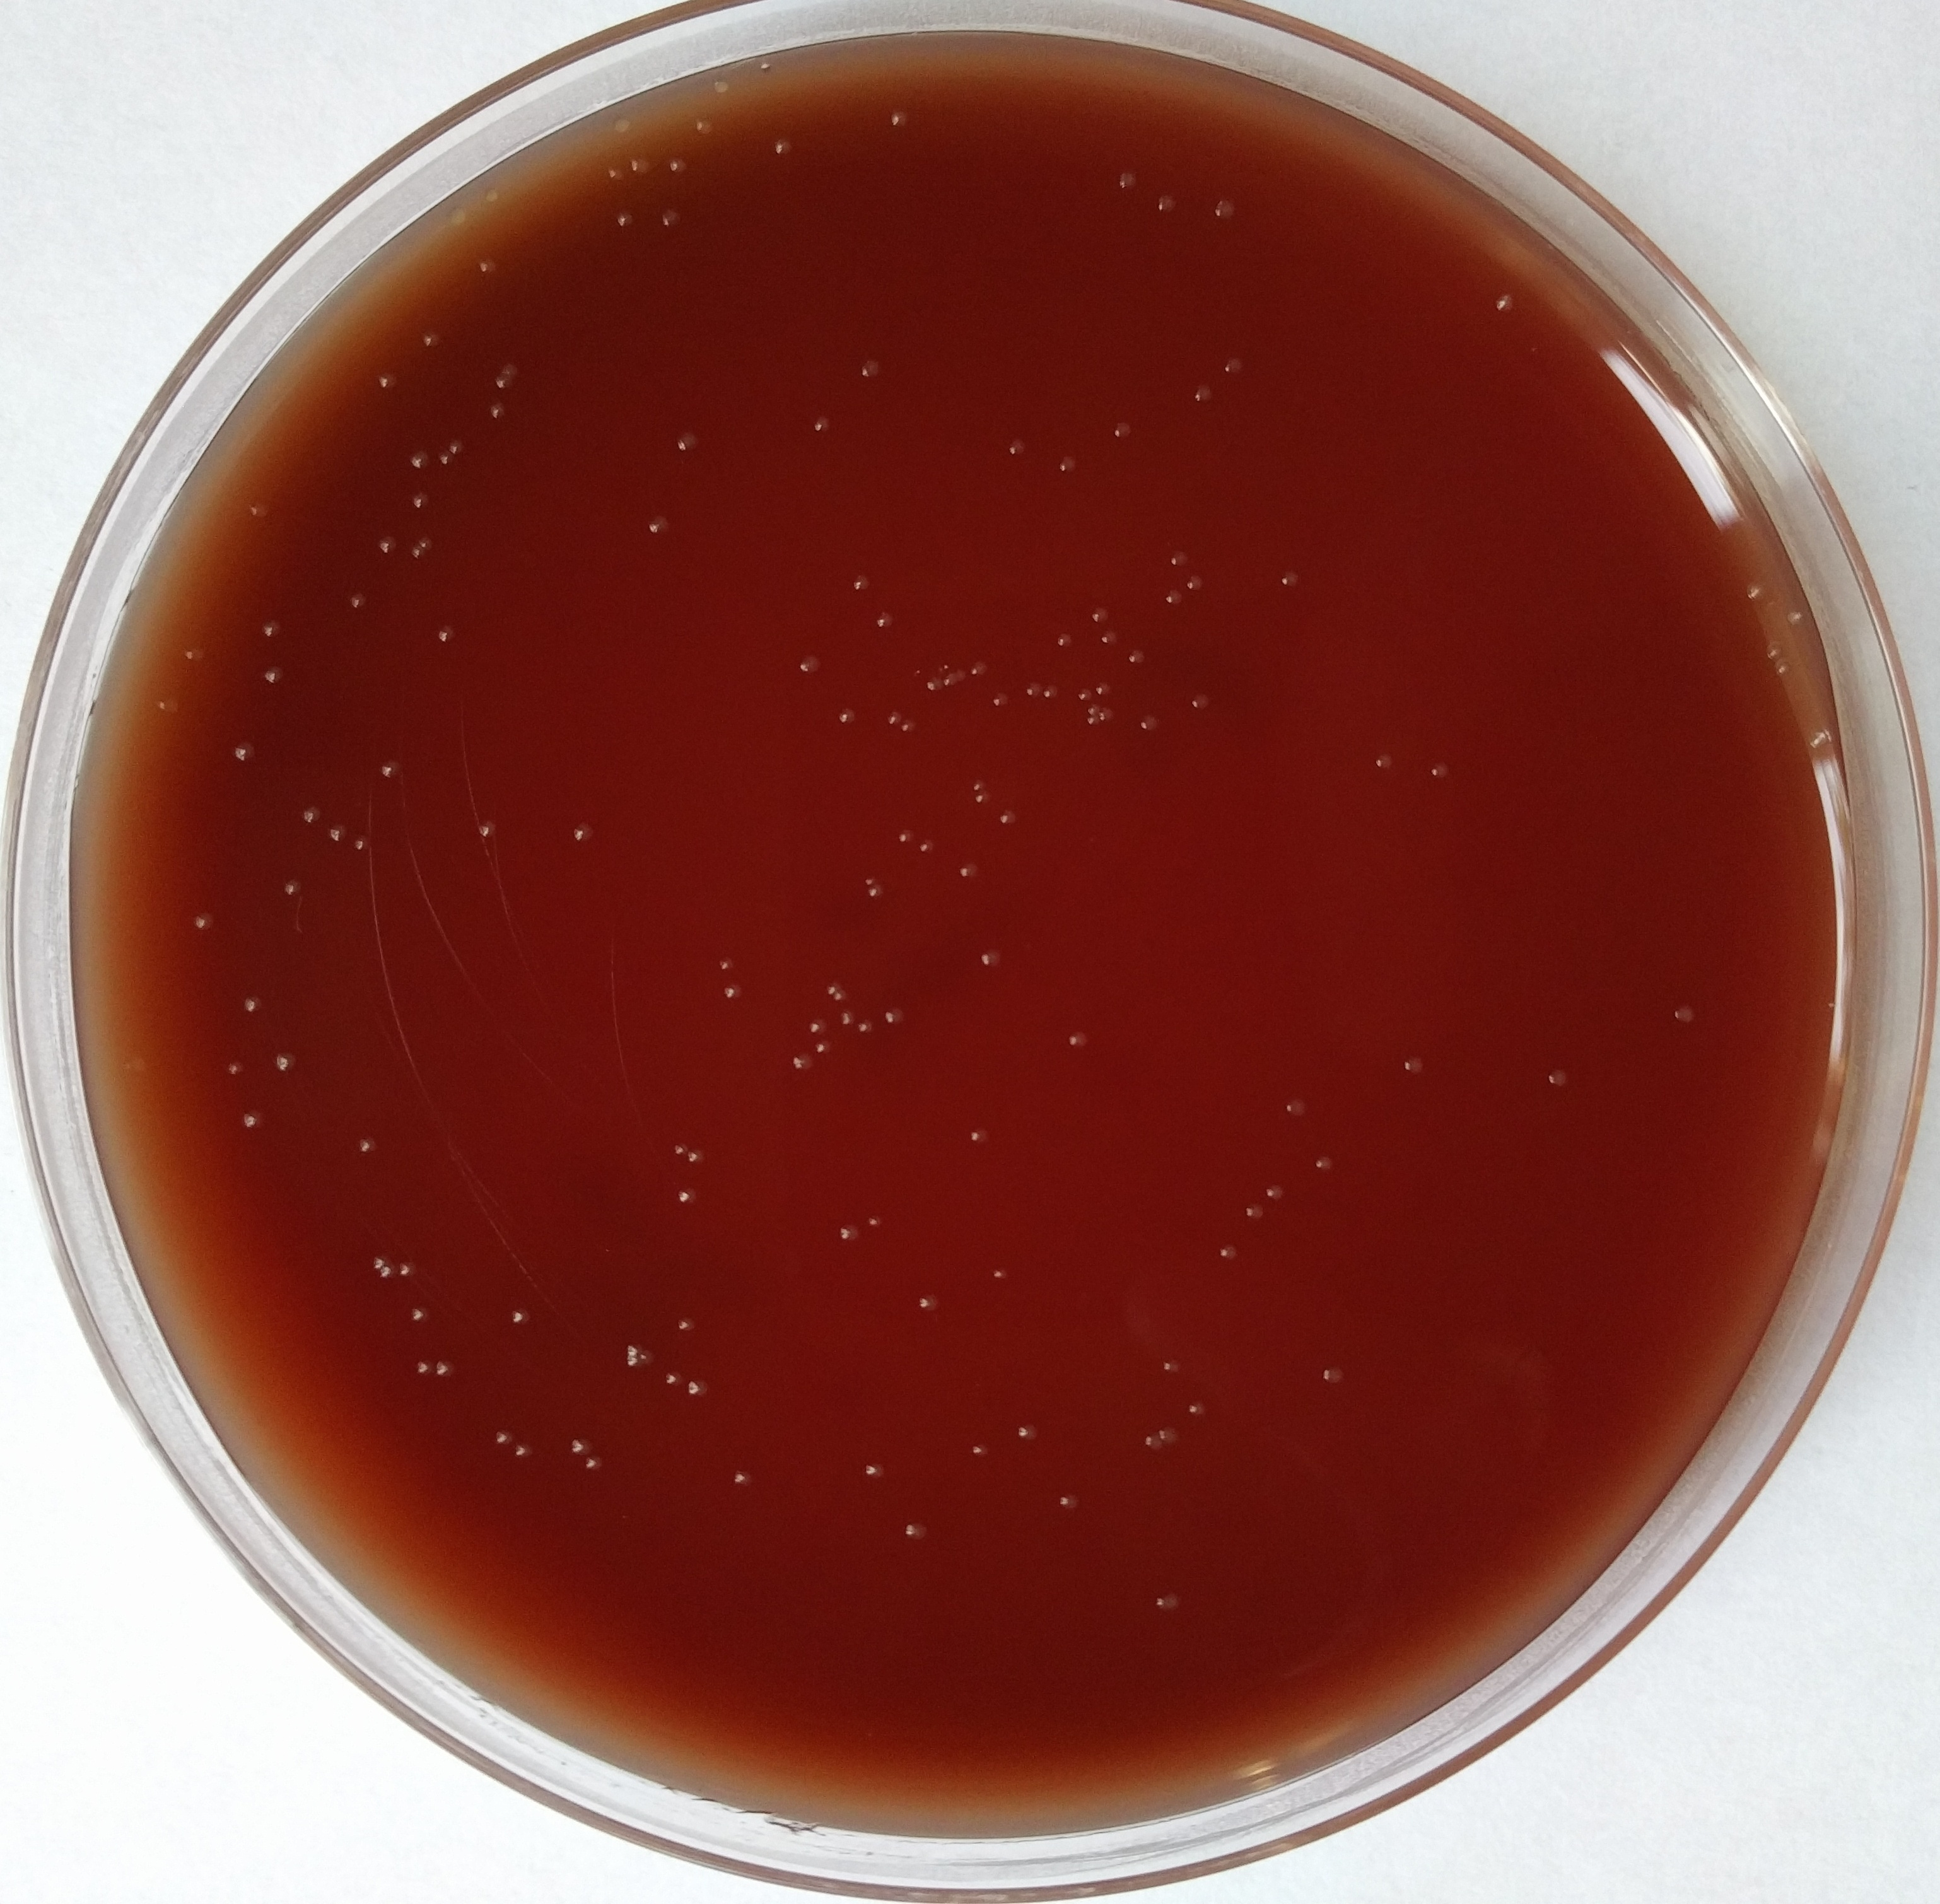sp07: (1485, 282, 1529, 323), (439, 194, 474, 239), (1109, 162, 1149, 201), (352, 1128, 389, 1170), (1281, 1090, 1321, 1126), (258, 659, 300, 692), (619, 155, 662, 185), (805, 413, 845, 445), (370, 753, 411, 783), (671, 424, 706, 459), (235, 1104, 274, 1135), (636, 513, 676, 542), (265, 1046, 300, 1079), (727, 1463, 760, 1498), (1536, 1065, 1574, 1095), (662, 152, 695, 185), (565, 818, 598, 851), (899, 1512, 933, 1545), (826, 697, 861, 729), (1741, 574, 1773, 609), (183, 910, 225, 936), (1804, 724, 1834, 760), (1049, 1487, 1086, 1517), (478, 178, 514, 207), (216, 1050, 249, 1081), (688, 113, 723, 143), (655, 201, 685, 235), (1187, 380, 1217, 415), (912, 1289, 948, 1316), (1218, 347, 1248, 380), (1103, 413, 1136, 443), (281, 870, 310, 903), (784, 1050, 824, 1074), (403, 446, 438, 474), (502, 1304, 537, 1332), (1053, 450, 1084, 479), (472, 818, 504, 847), (770, 131, 798, 164), (1185, 689, 1218, 717), (1403, 1053, 1431, 1086), (1311, 1149, 1339, 1182), (431, 622, 464, 650), (150, 690, 185, 717), (960, 1126, 997, 1151), (1670, 1001, 1699, 1030), (1150, 188, 1182, 216), (1424, 751, 1455, 779), (234, 990, 267, 1017), (1004, 436, 1041, 459), (845, 570, 873, 600), (884, 1001, 910, 1032), (410, 486, 436, 518), (375, 530, 406, 556), (948, 860, 981, 884), (1152, 1590, 1187, 1613), (376, 366, 404, 394), (432, 1355, 460, 1383), (610, 113, 640, 139), (608, 206, 638, 232), (793, 650, 823, 677), (1063, 1027, 1093, 1053), (831, 1221, 861, 1247), (403, 1299, 429, 1329), (483, 399, 514, 424), (917, 666, 941, 697), (1213, 194, 1236, 227), (1239, 1200, 1272, 1222), (415, 330, 448, 352), (1180, 570, 1206, 598), (1278, 567, 1304, 595), (1780, 605, 1808, 631), (1262, 1180, 1290, 1207), (350, 830, 376, 858), (322, 819, 349, 847), (298, 806, 326, 832), (1013, 1421, 1041, 1447), (868, 609, 898, 633), (716, 980, 746, 1004), (230, 739, 260, 764), (258, 617, 288, 642), (1319, 1360, 1349, 1384), (880, 106, 912, 129), (242, 499, 274, 521), (1135, 1428, 1161, 1454), (1159, 1357, 1185, 1383), (675, 1182, 699, 1210), (181, 642, 209, 666), (347, 589, 375, 614), (673, 1313, 701, 1337), (661, 1365, 685, 1393), (854, 356, 884, 378), (486, 1428, 516, 1451), (603, 160, 627, 187), (500, 356, 526, 380), (1136, 710, 1161, 736), (995, 806, 1020, 832), (1370, 750, 1396, 774), (1762, 640, 1787, 666), (444, 432, 471, 457), (394, 1259, 420, 1283), (408, 1357, 434, 1381), (863, 1459, 889, 1484), (851, 1017, 878, 1039), (471, 256, 500, 277), (715, 952, 739, 976), (687, 1146, 711, 1170), (974, 943, 999, 968), (685, 1376, 709, 1400), (1157, 1421, 1182, 1445), (892, 823, 919, 846), (990, 1264, 1016, 1287), (804, 1017, 830, 1039), (566, 1431, 593, 1454), (1184, 1398, 1210, 1421), (708, 77, 736, 98), (1121, 647, 1149, 668), (486, 371, 516, 391), (898, 713, 922, 736), (434, 448, 457, 473), (584, 1452, 608, 1475), (1166, 549, 1192, 570), (1213, 1245, 1239, 1266), (964, 1442, 992, 1461), (964, 656, 987, 678), (1020, 677, 1042, 699), (990, 687, 1011, 711), (1051, 631, 1075, 652), (882, 704, 905, 725), (1042, 680, 1063, 703), (913, 835, 936, 856), (1166, 586, 1187, 609), (1773, 654, 1794, 677), (837, 1006, 859, 1027), (511, 1440, 533, 1461), (664, 1142, 688, 1161), (1095, 678, 1116, 699), (1089, 605, 1112, 624), (865, 884, 887, 903), (865, 1210, 884, 1233), (821, 978, 844, 997), (366, 1252, 390, 1269), (971, 792, 997, 807), (1100, 628, 1121, 647), (1100, 704, 1121, 724), (378, 1262, 397, 1283), (966, 776, 988, 793), (621, 1337, 640, 1357), (1072, 683, 1095, 699), (811, 1041, 833, 1057), (943, 668, 957, 692), (410, 542, 427, 561), (622, 1353, 641, 1370), (640, 1346, 657, 1365), (1081, 711, 1103, 725), (861, 872, 880, 887), (422, 535, 438, 551), (831, 989, 849, 1003), (1089, 703, 1102, 717)
